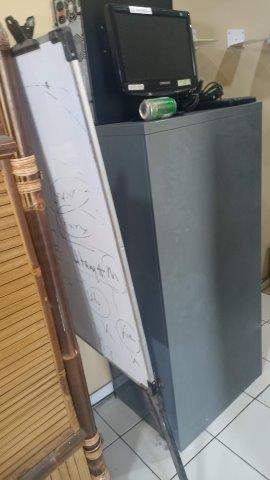kaleng: (133, 96, 179, 119)
